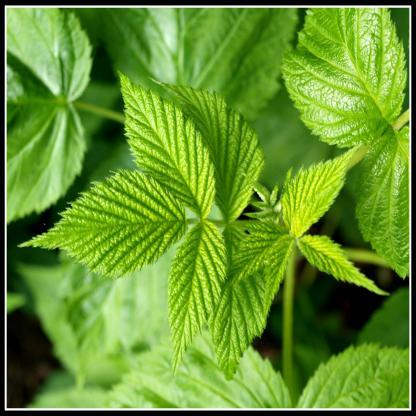Raspberry leaf: (15, 167, 189, 277), (116, 69, 218, 224), (166, 220, 224, 365), (284, 140, 362, 236)
